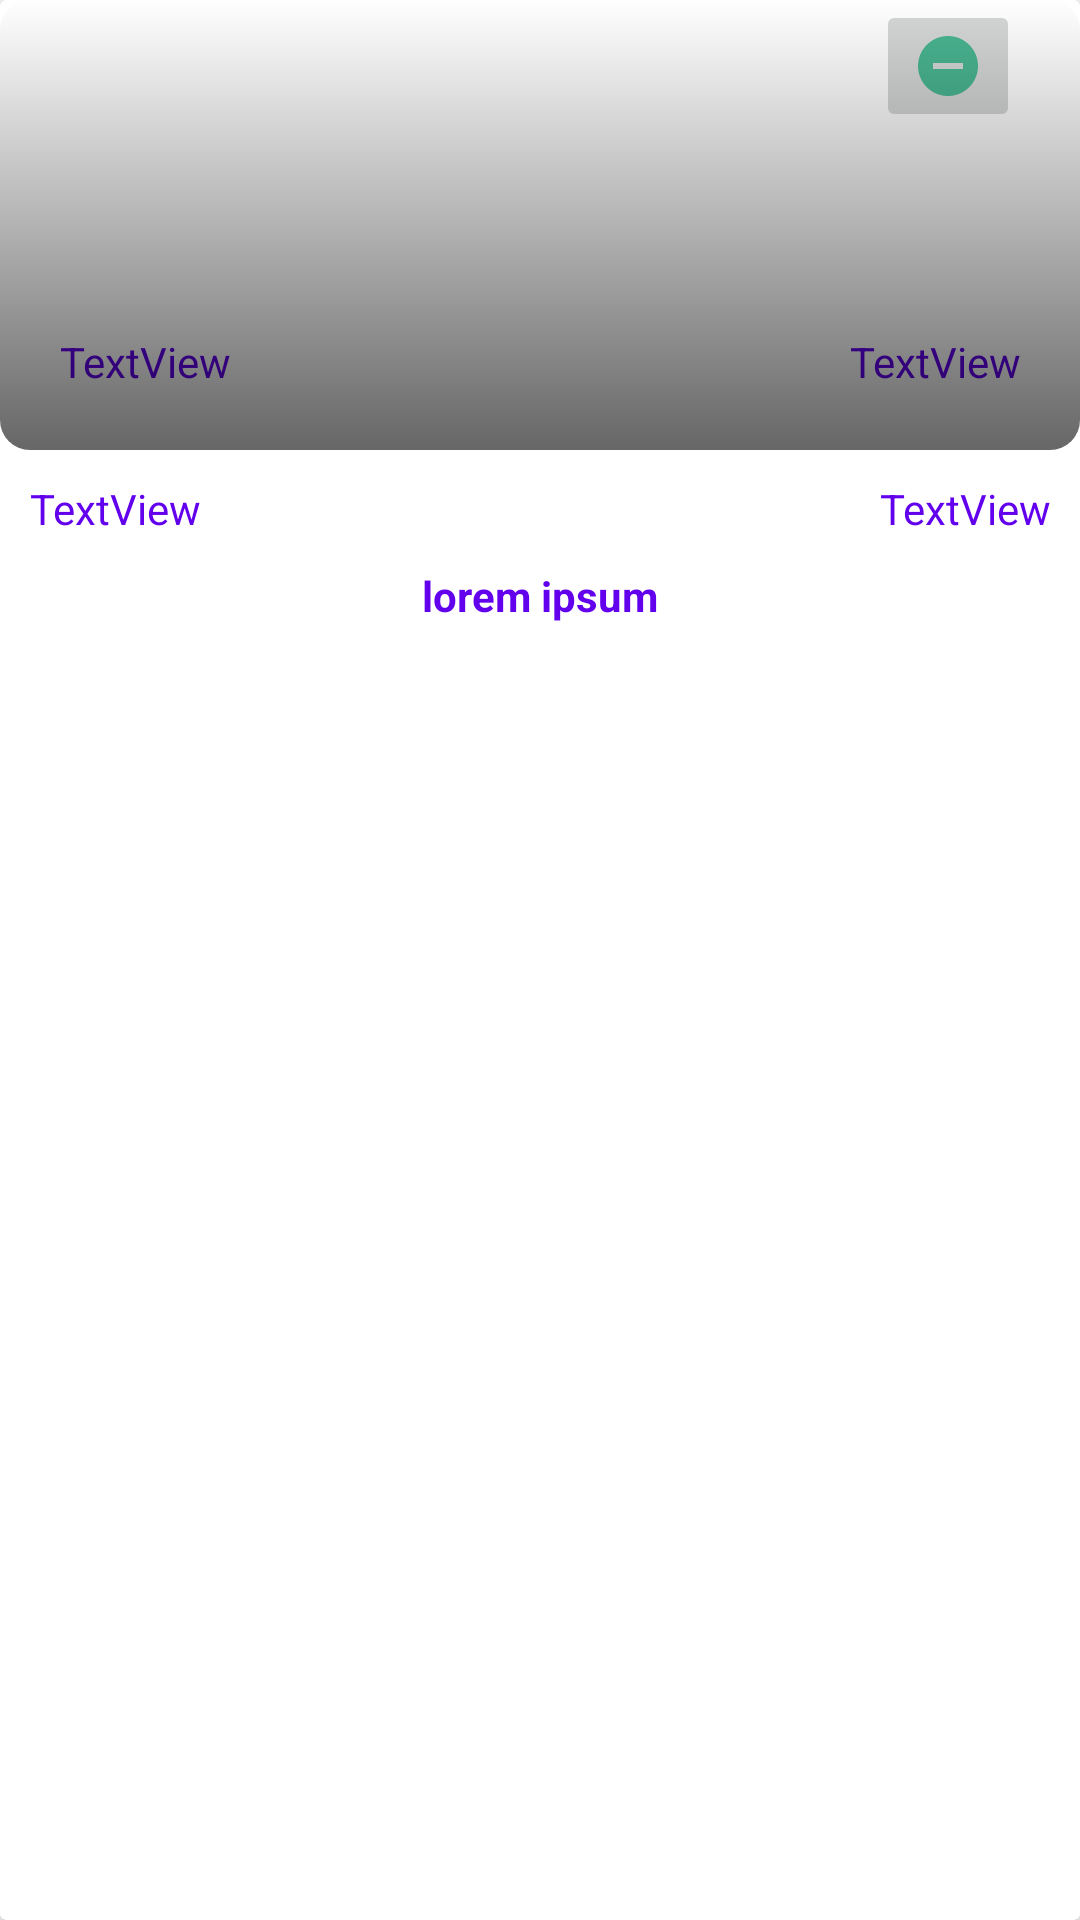

Named icons in this screenshot (1080×1920) and their bounding boxes, (left=x1, top=y1, right=x2, bottom=y2):
remove circle: (left=876, top=0, right=1020, bottom=114)
